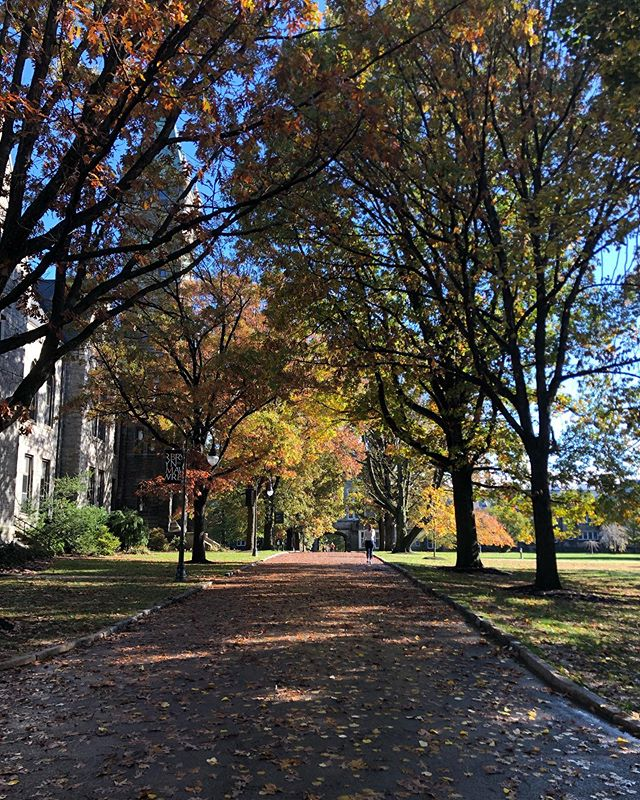building: (1, 283, 126, 555)
vegetation: (1, 1, 633, 546)
